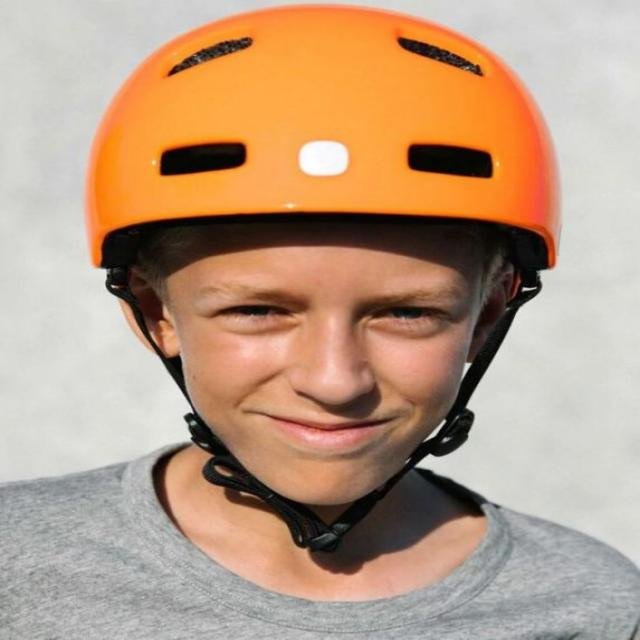illegal_helmet: (75, 0, 572, 568)
